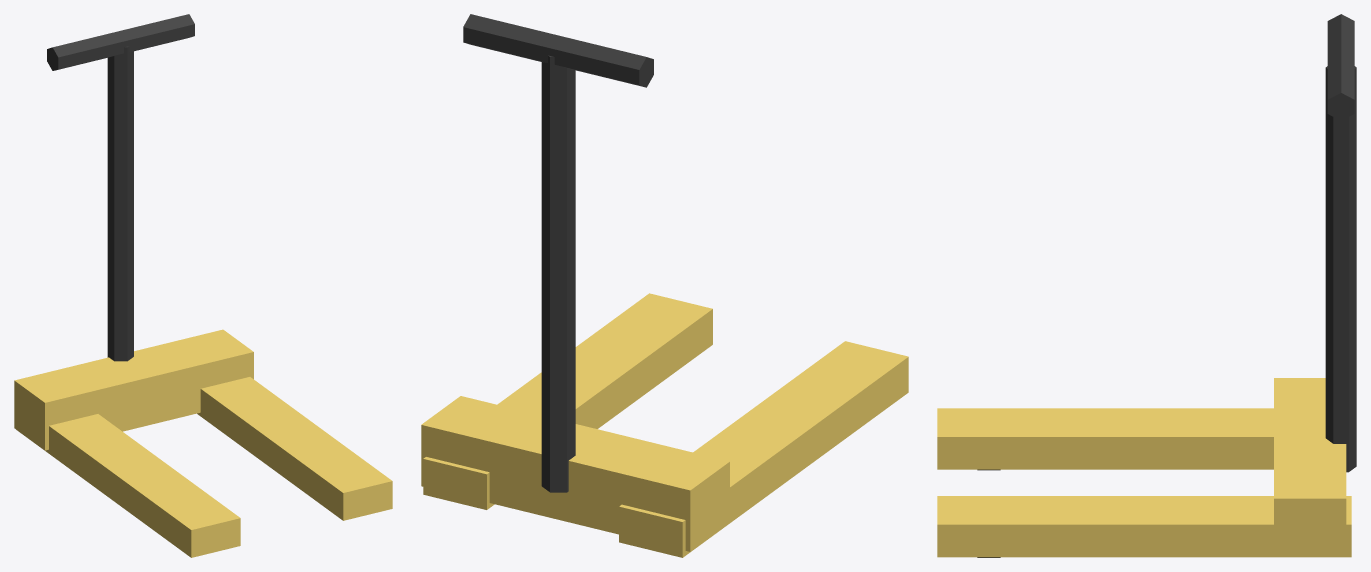
The picture shows the model from 3 angles, left to right: view 1: azimuth 30°, elevation 25°; view 2: azimuth 150°, elevation 25°; view 3: azimuth 270°, elevation 25°; orthographic projection. The views are drawn at different scales.
Parts seen in each view (by area): view 1: Fork chassis, Fork.001, Fork, Handle, Grip; view 2: Fork chassis, Fork, Fork.001, Handle, Grip; view 3: Fork.001, Fork, Fork chassis, Handle, Grip.
Boxes of the visible parts, box(x1,y1,x2,y2) form: Fork chassis: box(14, 329, 253, 450); Fork.001: box(197, 377, 392, 520); Fork: box(16, 414, 240, 557); Handle: box(107, 46, 133, 361); Grip: box(47, 14, 194, 70); Fork chassis: box(421, 396, 729, 551); Fork: box(619, 341, 908, 557); Fork.001: box(423, 293, 712, 509); Handle: box(541, 55, 575, 492); Grip: box(463, 14, 653, 87); Fork.001: box(937, 496, 1351, 557); Fork: box(937, 408, 1273, 469); Fork chassis: box(1274, 378, 1346, 554); Handle: box(1325, 66, 1356, 472); Grip: box(1327, 14, 1354, 120).
Bounding box in the file's own units: 0.55 × 0.98 × 0.81.
Materials: 1 (1 with a texture image).
